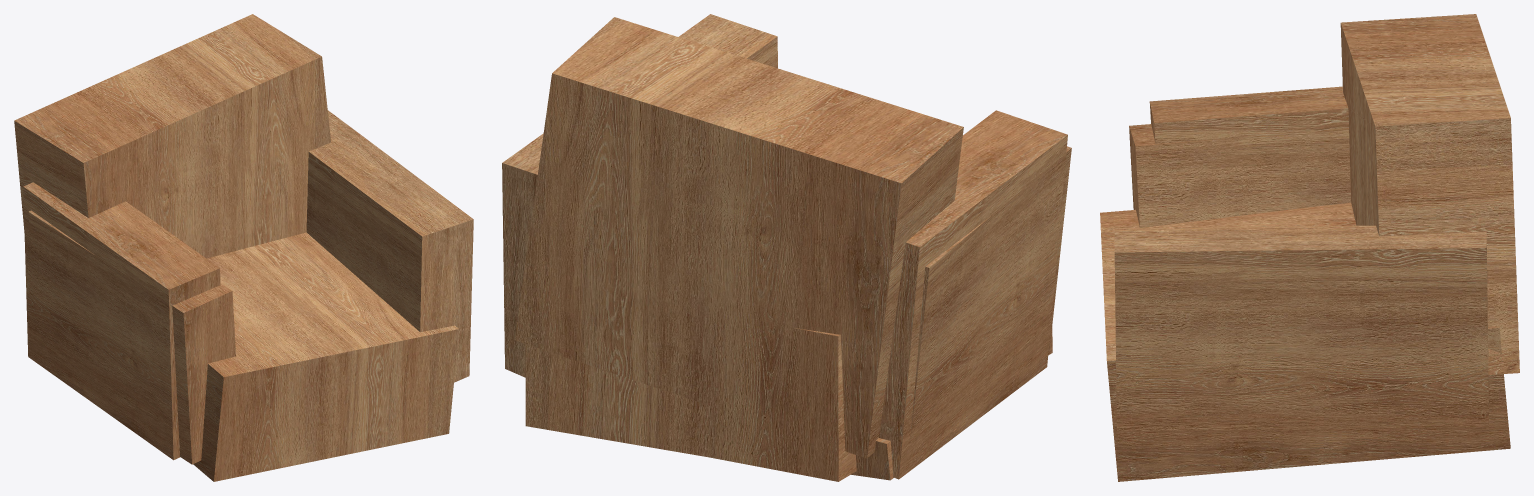
The model's file is 37821_ours.glb.
The picture shows the model from 3 angles, left to right: view 1: azimuth 30°, elevation 25°; view 2: azimuth 150°, elevation 25°; view 3: azimuth 270°, elevation 25°; orthographic projection. The views are drawn at different scales.
Parts seen in each view (by area): view 1: ParentEmpty; view 2: ParentEmpty; view 3: ParentEmpty.
Boxes of the visible parts, bbox=[...] form: ParentEmpty: bbox=[14, 14, 473, 481]; ParentEmpty: bbox=[502, 14, 1071, 481]; ParentEmpty: bbox=[1100, 14, 1519, 481].
Bounding box in the file's own units: 0.9753 × 0.917 × 1.
1 material, 1 textured.
